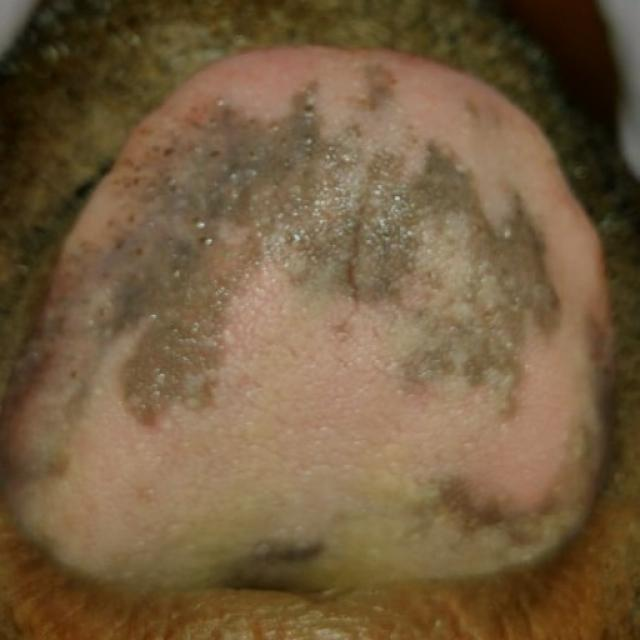leukoplakia-like-detection: (5, 60, 586, 525)
processing_area: (10, 56, 617, 584)
